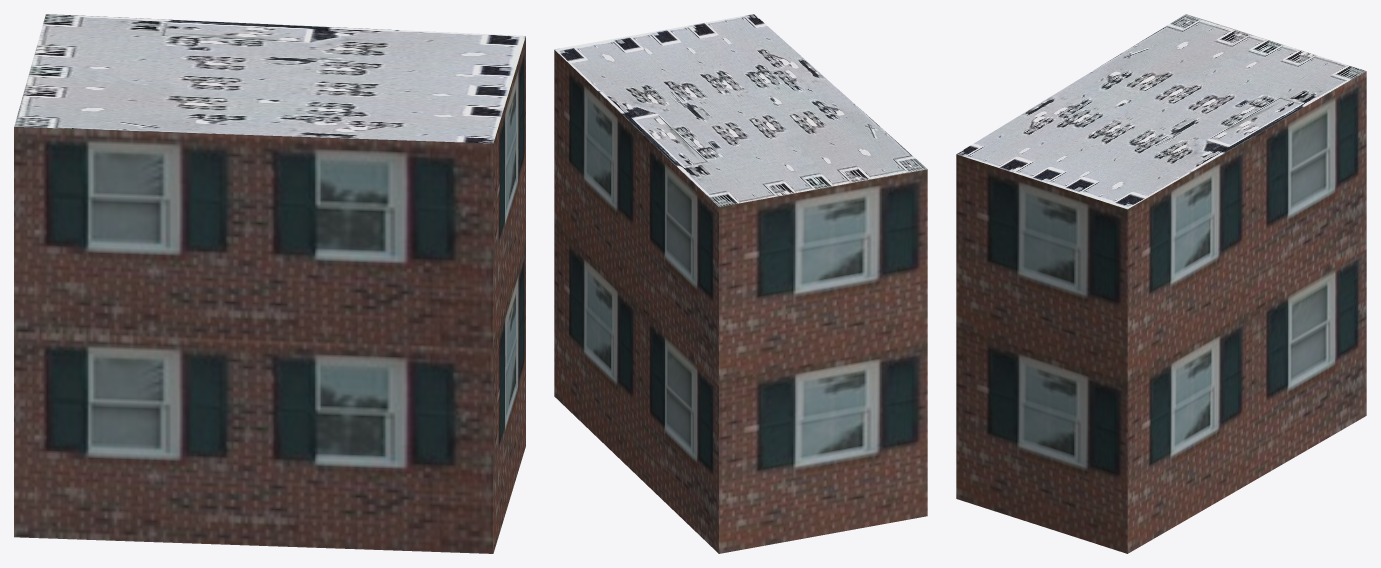
File: ResTex__4548.fbx
3 renders of one model, left to right at view 1: azimuth 30°, elevation 25°; view 2: azimuth 150°, elevation 25°; view 3: azimuth 270°, elevation 25°, orthographic. The views are drawn at different scales.
Parts seen in each view (by area): view 1: CityEngineMaterial_14_m, CityEngineMaterial_4_m; view 2: CityEngineMaterial_14_m, CityEngineMaterial_4_m; view 3: CityEngineMaterial_14_m, CityEngineMaterial_4_m.
Boxes of the visible parts, bbox=[...] form: CityEngineMaterial_14_m: bbox=[14, 36, 525, 553]; CityEngineMaterial_4_m: bbox=[14, 14, 525, 143]; CityEngineMaterial_14_m: bbox=[554, 50, 927, 553]; CityEngineMaterial_4_m: bbox=[554, 14, 927, 206]; CityEngineMaterial_14_m: bbox=[956, 71, 1366, 553]; CityEngineMaterial_4_m: bbox=[956, 14, 1366, 209].
Bounding box in the file's own units: 7.3 × 6 × 6.48.
Materials: 2 (2 with a texture image).
